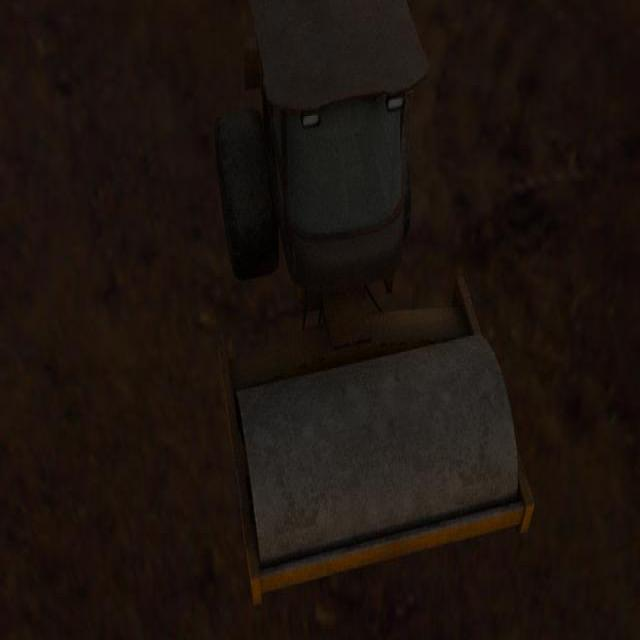Roller: (214, 0, 534, 607)
